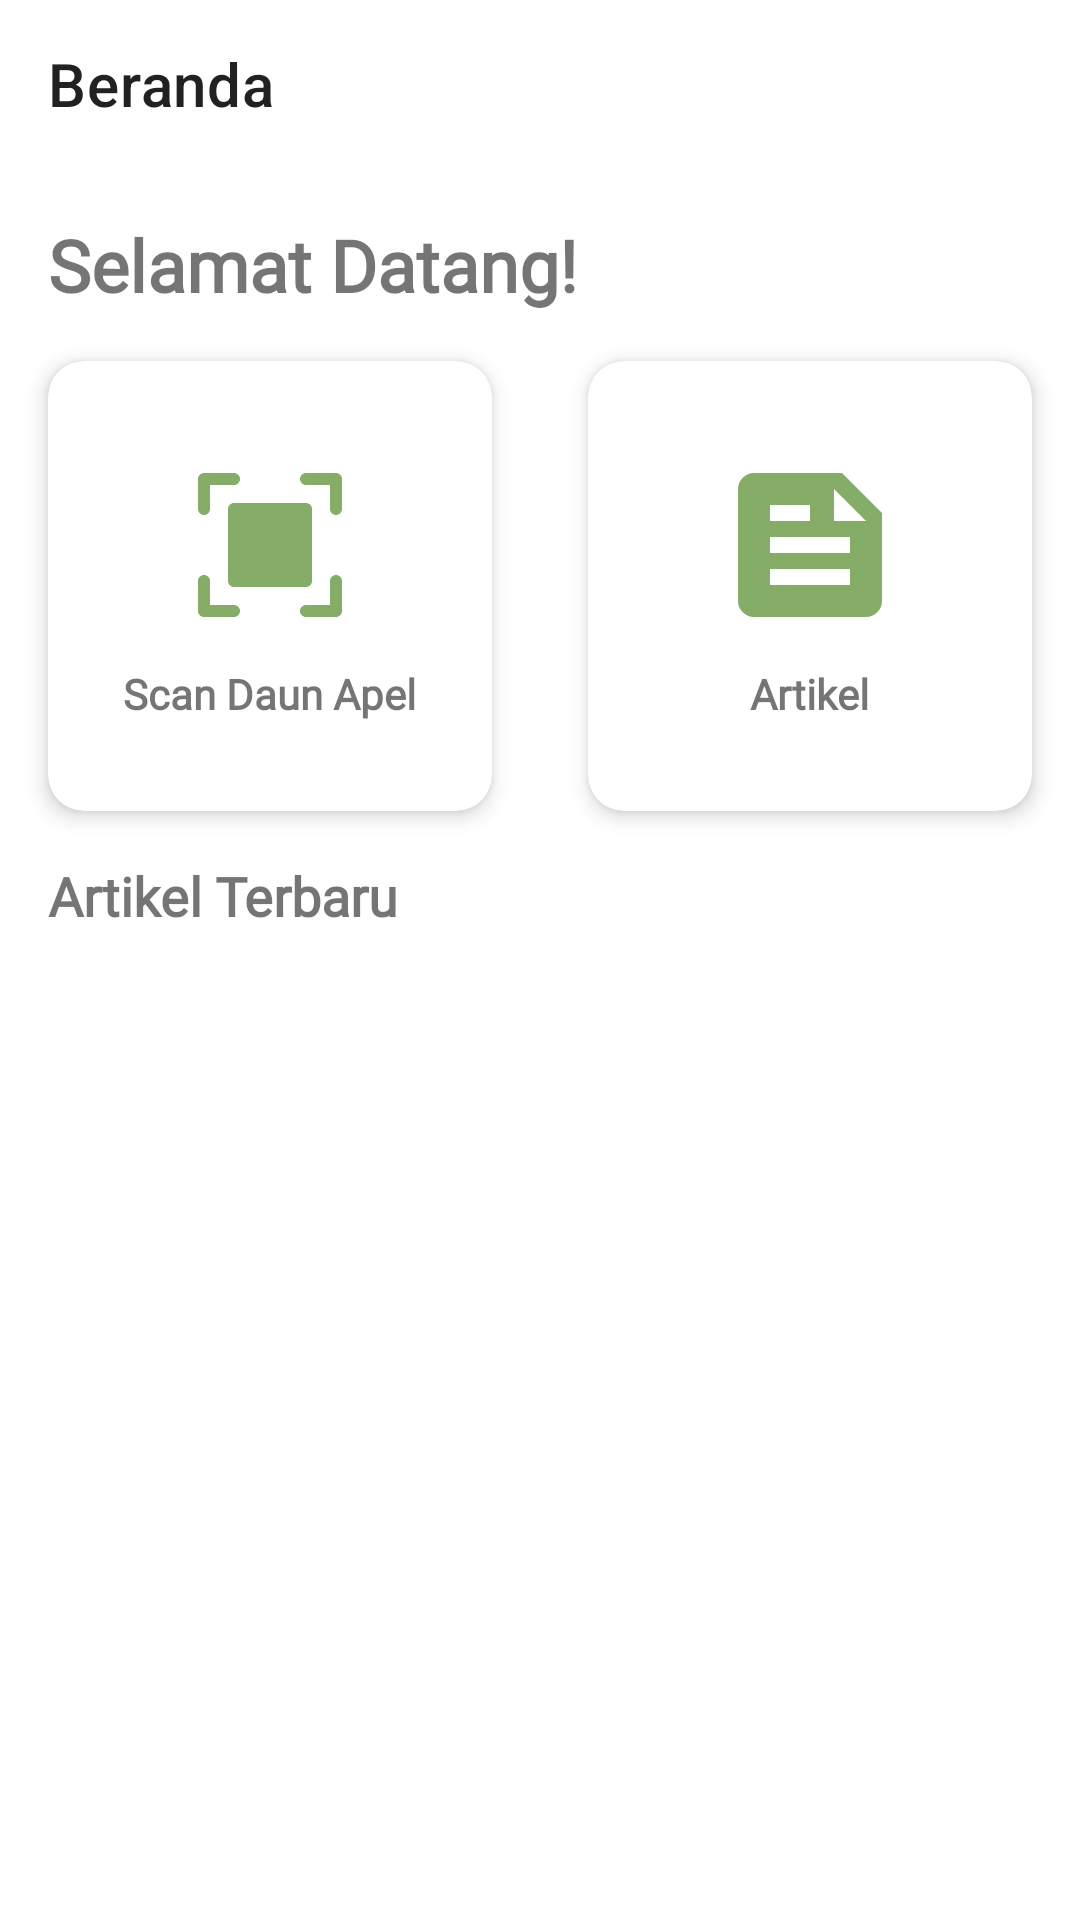

Screen size 1080 × 1920. Icon name, then its box in pixels as (x1, y1, x2, y2):
article: (738, 473, 882, 617)
